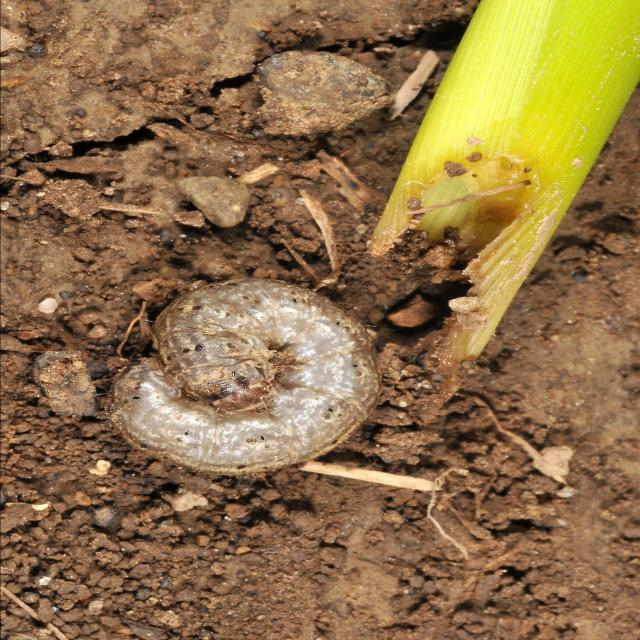black cutworm: (96, 282, 391, 488)
